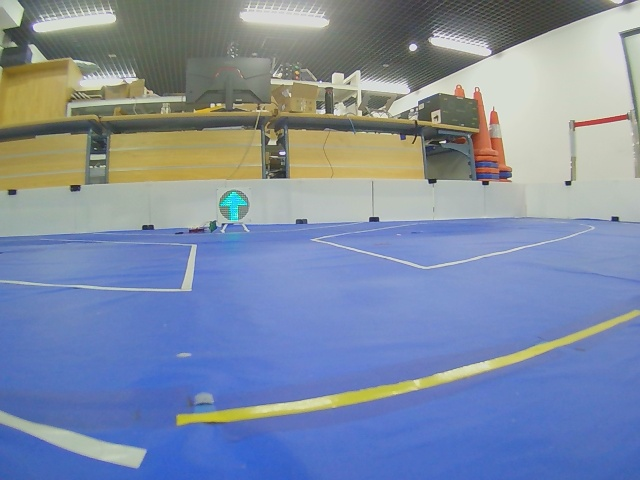straight_green: (219, 190, 250, 222)
